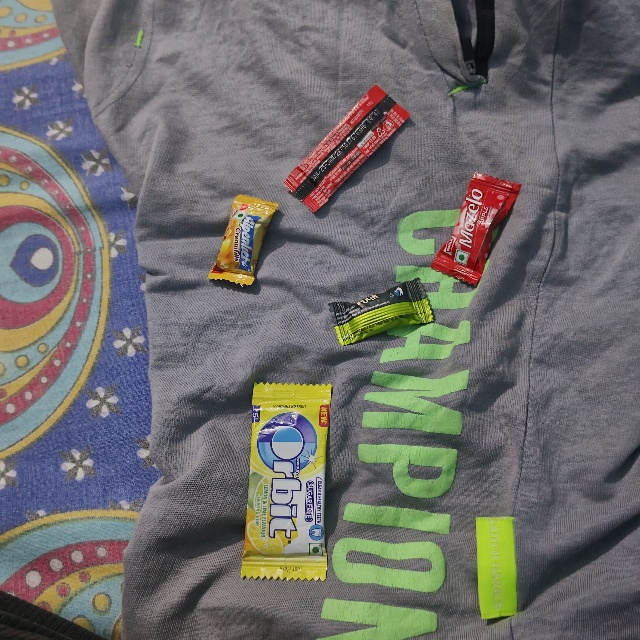Alpenlibe Creamfills: (235, 185, 292, 283)
Mazelo: (474, 161, 529, 284)
Nescafe Coffee: (273, 180, 413, 236)
Orbit: (250, 381, 333, 583)
Pulse: (325, 308, 428, 358)
